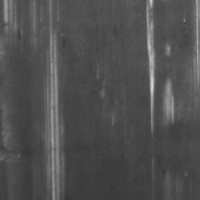scratches: (39, 27, 69, 200), (142, 1, 160, 138)
